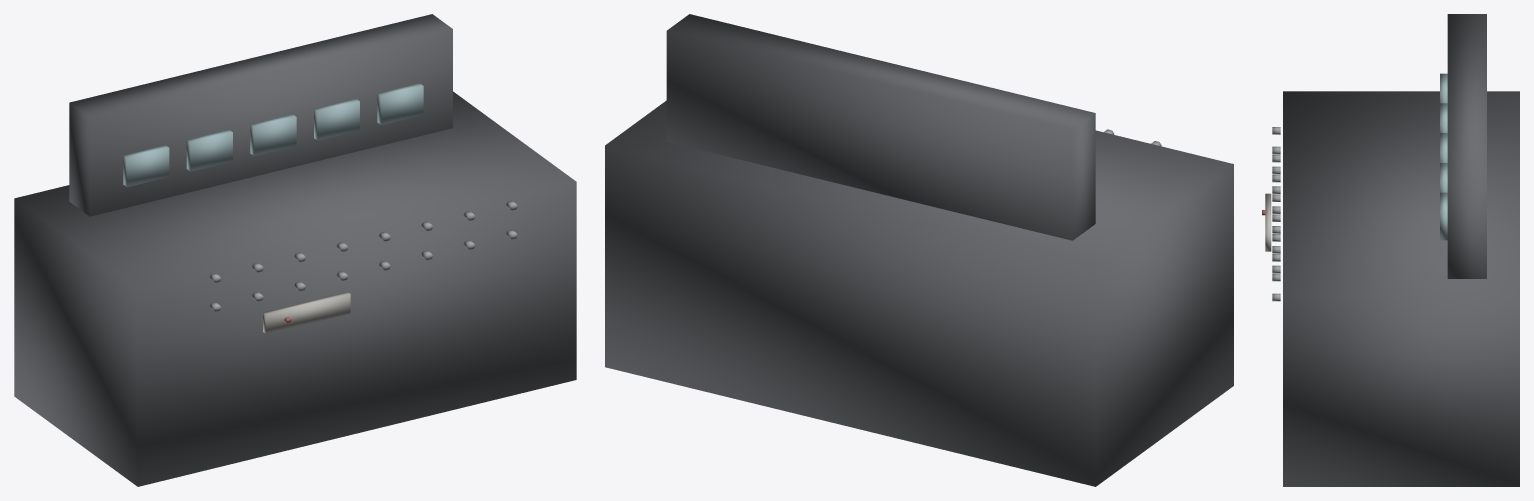
The model's file is pa_rack__squat.glb.
3 views of the same model, side by side, from view 1: azimuth 30°, elevation 25°; view 2: azimuth 150°, elevation 25°; view 3: azimuth 270°, elevation 25° (orthographic). The views are drawn at different scales.
Visible parts, largest first — view 1: world; view 2: world; view 3: world.
Part boxes in pixels (bbox=[...]): world: bbox=[14, 14, 576, 486]; world: bbox=[605, 14, 1233, 486]; world: bbox=[1262, 14, 1519, 486].
Bounding box in the file's own units: 1.6 × 1.03 × 0.8462.
